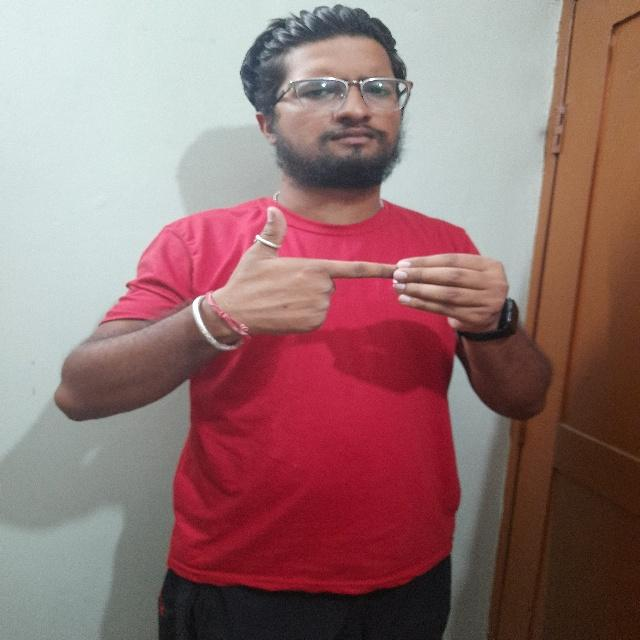Five Fathers: (202, 189, 518, 360)
